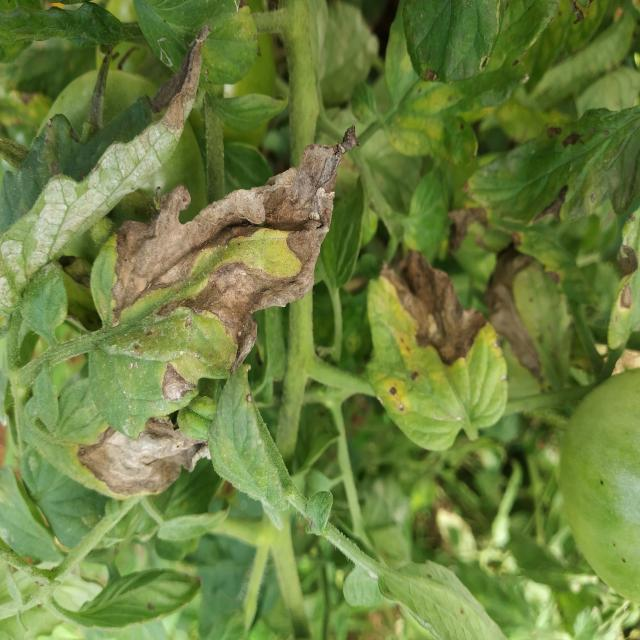Tomato mosaic virus leaf: (89, 121, 363, 422), (77, 24, 215, 155), (54, 411, 216, 504), (510, 105, 624, 223), (407, 41, 452, 91)
